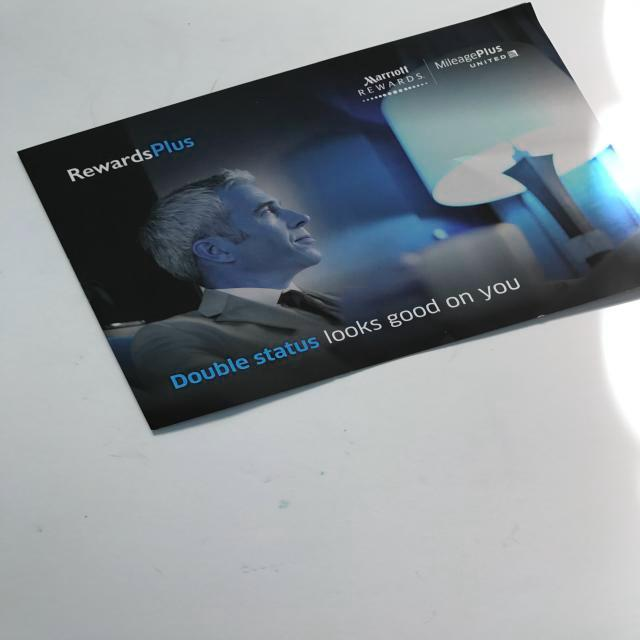paper: (13, 3, 640, 445)
